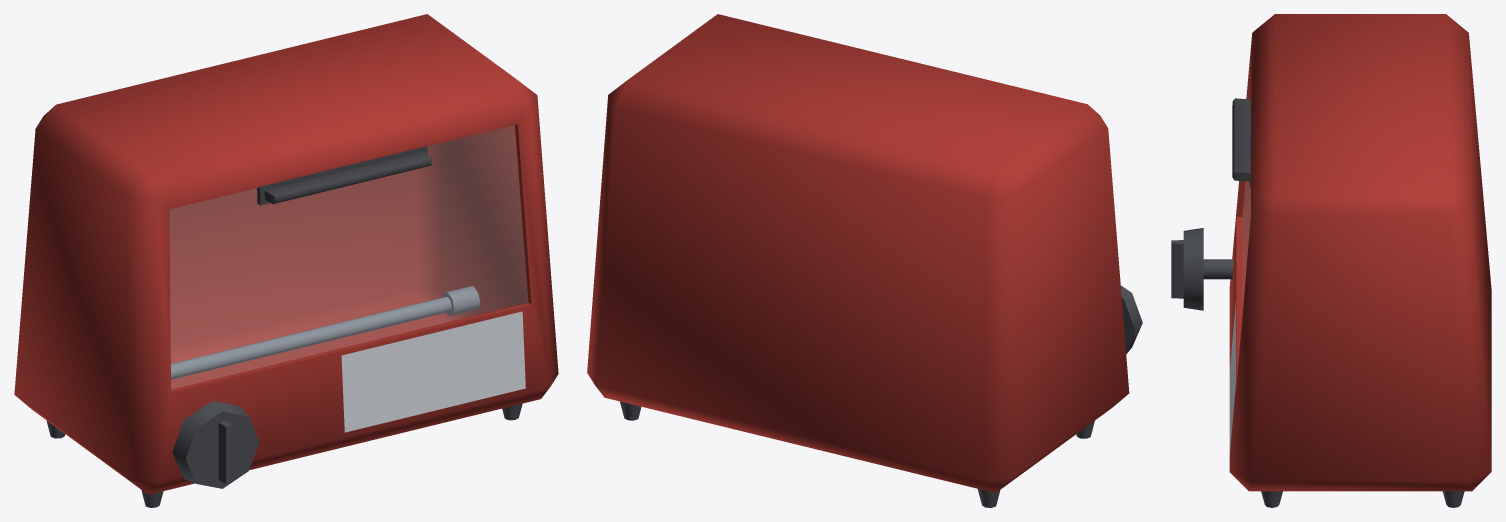
The model's file is Toaster Oven.glb.
The picture shows the model from 3 angles, left to right: view 1: azimuth 30°, elevation 25°; view 2: azimuth 150°, elevation 25°; view 3: azimuth 270°, elevation 25°; orthographic projection. The views are drawn at different scales.
Parts seen in each view (by area): view 1: appliance_toaster_oven_Cube.265, appliance_toaster_oven_door_Cube.266, appliance_toaster_oven_knob_Cube.267; view 2: appliance_toaster_oven_Cube.265, appliance_toaster_oven_knob_Cube.267; view 3: appliance_toaster_oven_Cube.265, appliance_toaster_oven_knob_Cube.267, appliance_toaster_oven_door_Cube.266.
Part boxes in pixels (x1,y1,x2,y2): appliance_toaster_oven_Cube.265: (14, 14, 558, 507); appliance_toaster_oven_door_Cube.266: (170, 125, 527, 388); appliance_toaster_oven_knob_Cube.267: (172, 401, 259, 488); appliance_toaster_oven_Cube.265: (587, 14, 1129, 507); appliance_toaster_oven_knob_Cube.267: (1120, 285, 1142, 353); appliance_toaster_oven_Cube.265: (1229, 14, 1491, 507); appliance_toaster_oven_knob_Cube.267: (1171, 228, 1233, 310); appliance_toaster_oven_door_Cube.266: (1232, 96, 1250, 309).
Size of the model in its own units: 9.19 by 6.85 by 6.2.
Materials: 2 (2 with a texture image).
